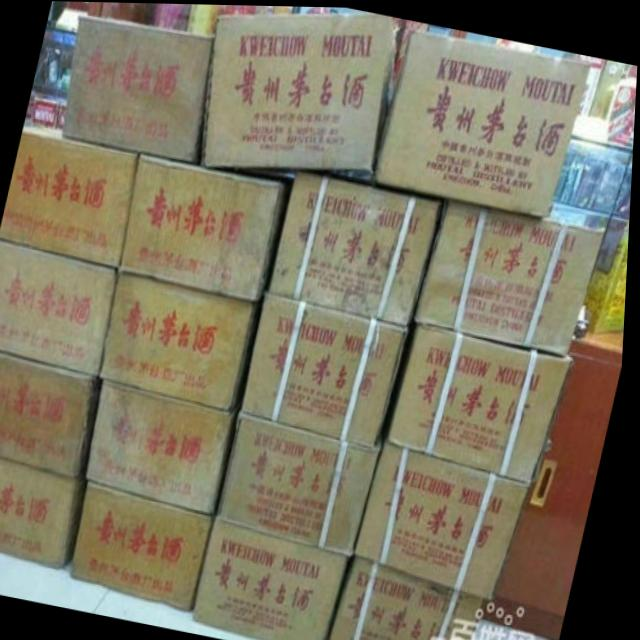box: (376, 27, 591, 216), (206, 11, 397, 170), (417, 197, 608, 353), (391, 323, 574, 479), (360, 437, 534, 596), (271, 168, 444, 324), (122, 151, 295, 299), (244, 293, 411, 444), (223, 414, 385, 553), (64, 13, 212, 164), (105, 271, 266, 405), (91, 380, 243, 513), (0, 125, 138, 267), (198, 518, 354, 640), (78, 482, 217, 609), (0, 240, 119, 375), (0, 350, 105, 477), (335, 555, 489, 640), (0, 457, 90, 570)
